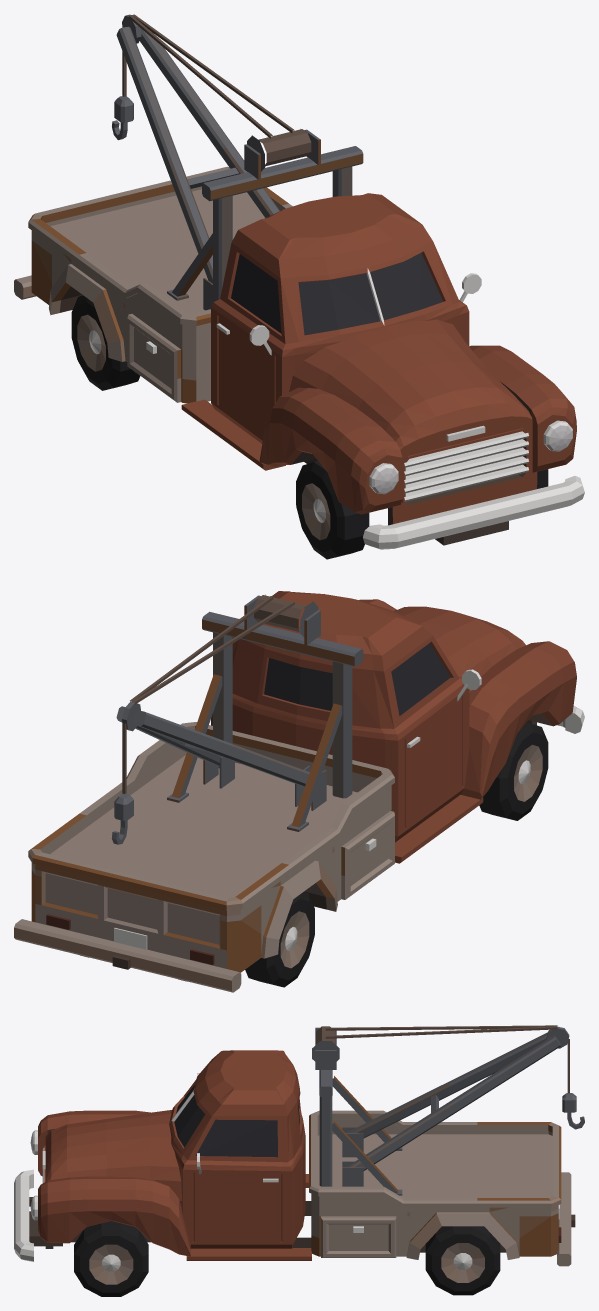
File: tow-truck-7d04f8.glb
The picture shows the model from 3 angles, top to bottom: view 1: azimuth 30°, elevation 25°; view 2: azimuth 150°, elevation 25°; view 3: azimuth 270°, elevation 25°; orthographic projection. The views are drawn at different scales.
Visible parts, largest first — view 1: tow-truck-body, wheel-fr-mesh, wheel-rr-mesh; view 2: tow-truck-body, wheel-fr-mesh, wheel-rr-mesh; view 3: tow-truck-body, wheel-fl-mesh, wheel-rl-mesh.
Boxes of the visible parts, x1,y1,x2,y2 form: tow-truck-body: [14, 14, 584, 549]; wheel-fr-mesh: [296, 461, 369, 559]; wheel-rr-mesh: [71, 295, 140, 390]; tow-truck-body: [14, 591, 584, 992]; wheel-fr-mesh: [479, 722, 548, 820]; wheel-rr-mesh: [245, 892, 314, 987]; tow-truck-body: [14, 1025, 584, 1266]; wheel-fl-mesh: [74, 1221, 148, 1296]; wheel-rl-mesh: [425, 1226, 500, 1295].
Size of the model in its own units: 2.11 by 2.65 by 5.91.
